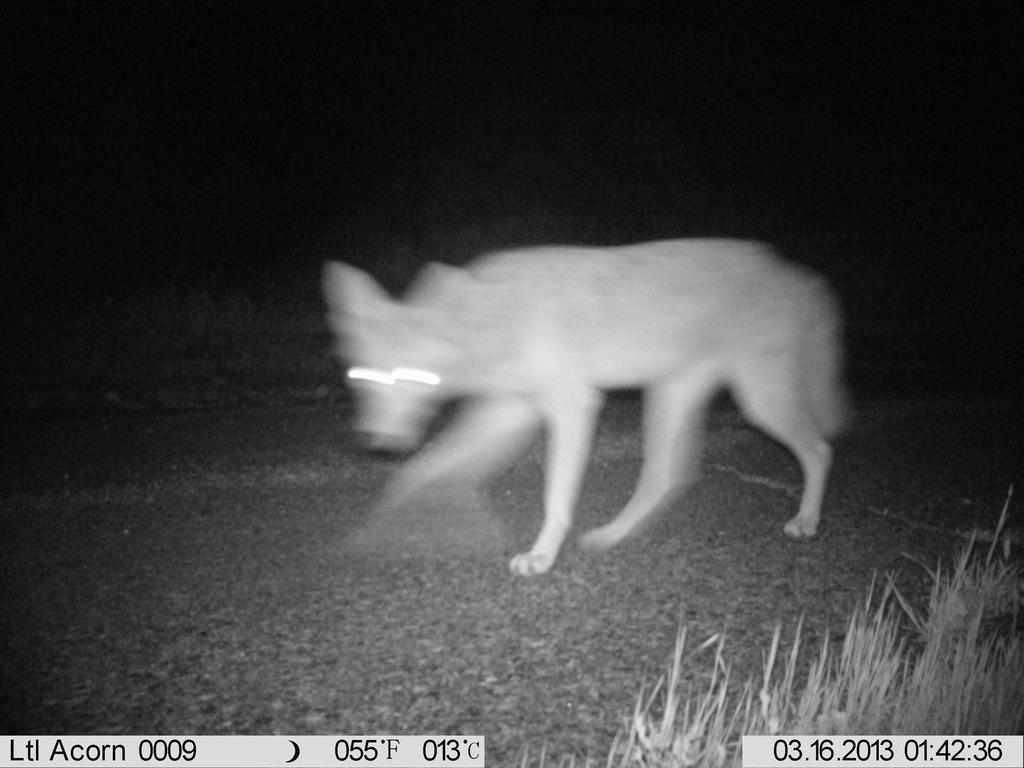coyote: (311, 232, 868, 575)
